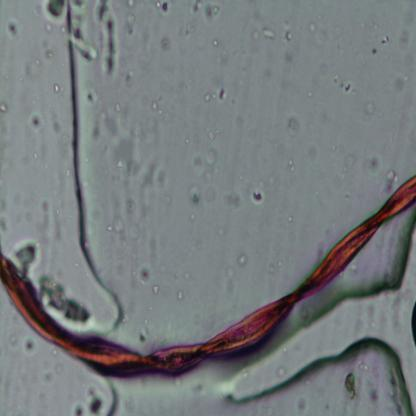Air bubble: (44, 0, 125, 333), (217, 323, 412, 416), (351, 227, 416, 303), (410, 294, 416, 359)
Background material: (91, 104, 159, 178), (35, 268, 86, 328), (95, 0, 120, 77), (70, 0, 96, 62), (6, 234, 44, 274), (73, 380, 105, 416), (192, 142, 222, 178), (185, 0, 221, 24), (42, 0, 68, 31), (243, 178, 270, 206), (246, 23, 276, 48), (342, 366, 358, 404), (282, 112, 304, 137), (199, 84, 228, 102), (102, 214, 127, 234), (277, 22, 297, 46), (332, 75, 356, 95), (364, 153, 382, 179), (0, 196, 12, 234), (136, 261, 154, 285), (39, 198, 53, 228), (18, 332, 38, 351), (134, 323, 152, 344), (200, 121, 218, 141), (121, 11, 136, 32), (385, 170, 398, 194), (123, 67, 140, 85), (231, 252, 252, 266), (50, 108, 61, 133), (20, 57, 33, 78), (286, 155, 298, 176), (83, 88, 99, 103), (201, 187, 218, 201), (186, 186, 200, 203), (6, 13, 16, 36), (151, 0, 167, 14), (28, 114, 41, 130), (128, 224, 140, 241), (182, 263, 194, 280), (305, 17, 318, 32), (174, 288, 185, 302), (158, 34, 169, 48), (124, 198, 133, 214), (150, 282, 160, 296), (49, 84, 60, 95), (0, 97, 7, 113), (33, 54, 41, 68), (46, 48, 54, 61), (286, 213, 294, 223), (211, 38, 219, 48), (378, 40, 388, 48), (115, 159, 122, 170), (31, 150, 38, 161), (370, 47, 378, 56), (126, 0, 136, 7), (188, 211, 195, 219), (66, 167, 70, 178)
Cotton: (0, 175, 416, 385)
